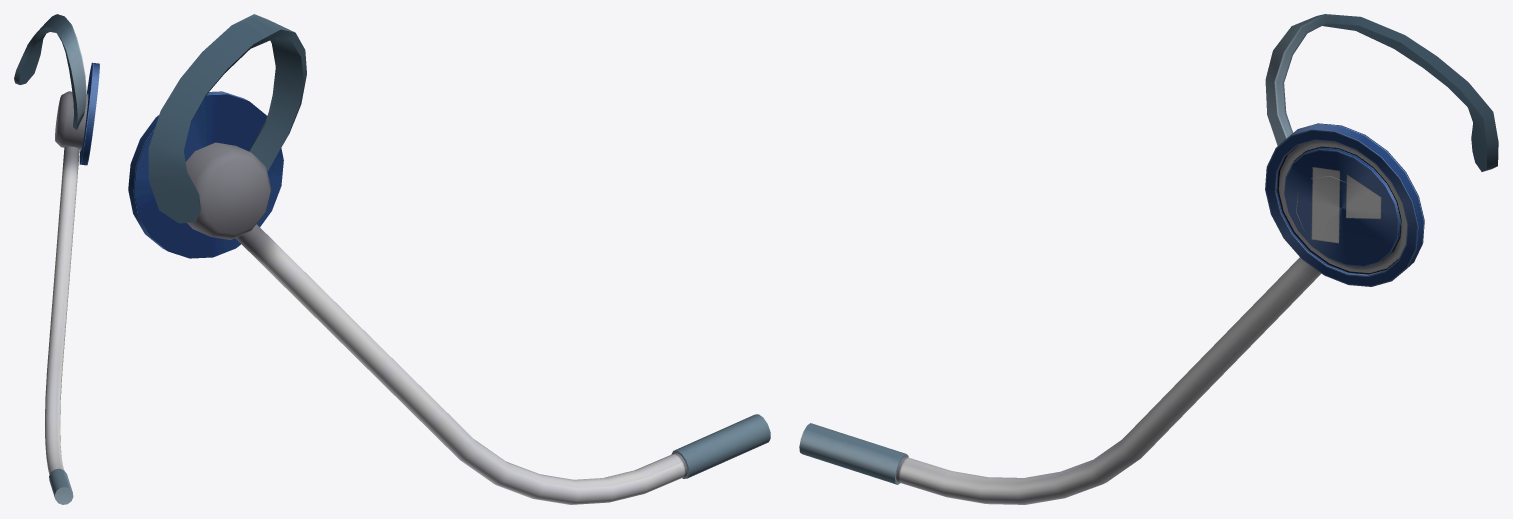
File: EntrainingIntercomTomoya.fbx
3 views of the same model, side by side, from view 1: azimuth 30°, elevation 25°; view 2: azimuth 150°, elevation 25°; view 3: azimuth 270°, elevation 25° (orthographic). The views are drawn at different scales.
Parts seen in each view (by area): view 1: EntrainingIntercomTomoya; view 2: EntrainingIntercomTomoya; view 3: EntrainingIntercomTomoya.
Boxes of the visible parts, left/top/right/bottom form: EntrainingIntercomTomoya: left=14, top=14, right=99, bottom=504; EntrainingIntercomTomoya: left=128, top=14, right=770, bottom=504; EntrainingIntercomTomoya: left=799, top=14, right=1498, bottom=504.
Bounding box in the file's own units: 0.053 × 0.0802 × 0.0864.
Materials: 1 (1 with a texture image).
